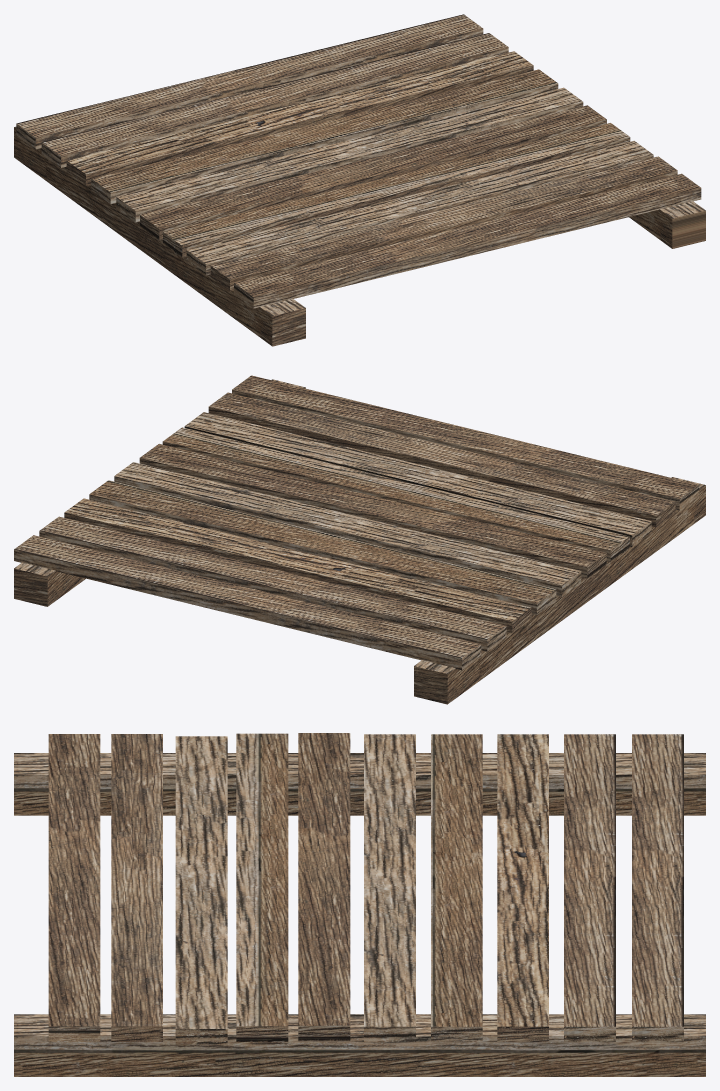
The model's file is plataformaDeMaderaV4.fbx.
3 views of the same model, one above another, from view 1: azimuth 30°, elevation 25°; view 2: azimuth 150°, elevation 25°; view 3: azimuth 270°, elevation 25° (orthographic). The views are drawn at different scales.
Visible parts, largest first — view 1: Plataforma.001; view 2: Plataforma.001; view 3: Plataforma.001.
Part boxes in pixels (left/top/right/bottom): Plataforma.001: left=14, top=14, right=705, bottom=346; Plataforma.001: left=14, top=375, right=705, bottom=704; Plataforma.001: left=14, top=733, right=705, bottom=1076.
Size of the model in its own units: 401 by 35.74 by 400.
1 material, 1 textured.
